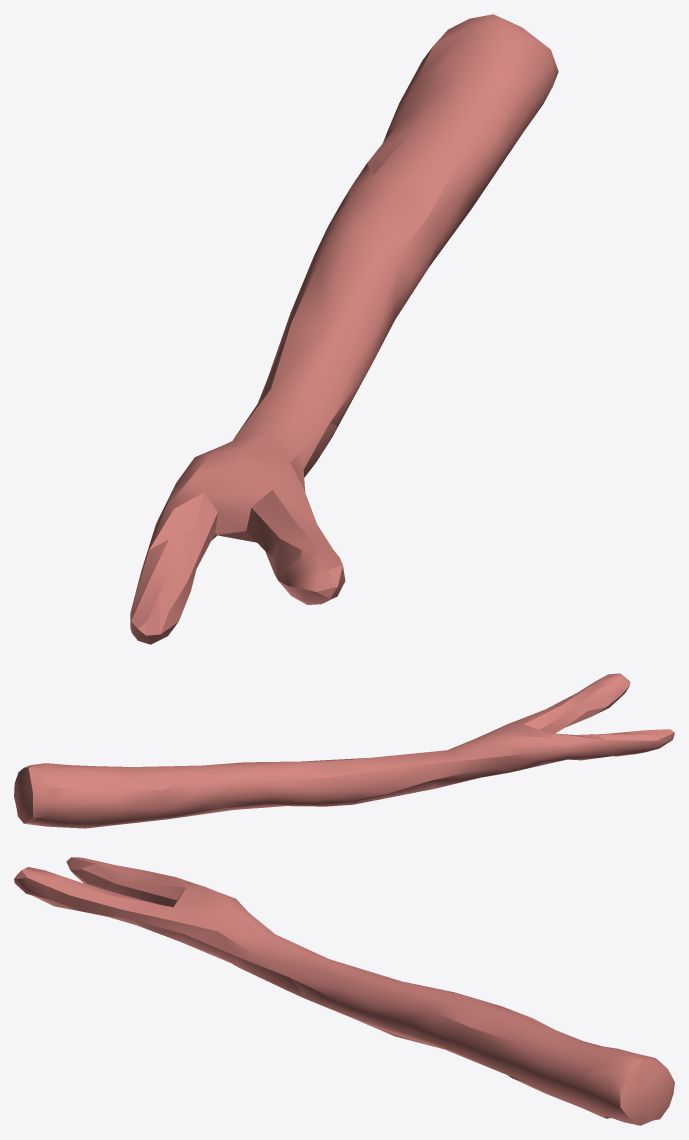
Rendered from fma223221_mm1753m.glb.
3 views of the same model, one above another, from view 1: azimuth 30°, elevation 25°; view 2: azimuth 150°, elevation 25°; view 3: azimuth 270°, elevation 25° (orthographic). The views are drawn at different scales.
Visible parts, largest first — view 1: FMA223221_MM1753M; view 2: FMA223221_MM1753M; view 3: FMA223221_MM1753M.
Boxes of the visible parts, box(x1,y1,x2,y2) form: FMA223221_MM1753M: box(130, 14, 558, 644); FMA223221_MM1753M: box(14, 673, 674, 828); FMA223221_MM1753M: box(14, 857, 674, 1125).
Size of the model in its own units: 0.0331 by 0.00487 by 0.0356.
